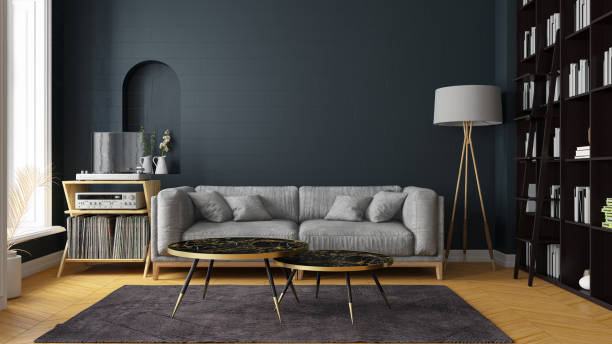floor lamp: (430, 83, 506, 269)
sofa: (145, 181, 449, 281)
table: (165, 237, 307, 324), (271, 248, 392, 324)
